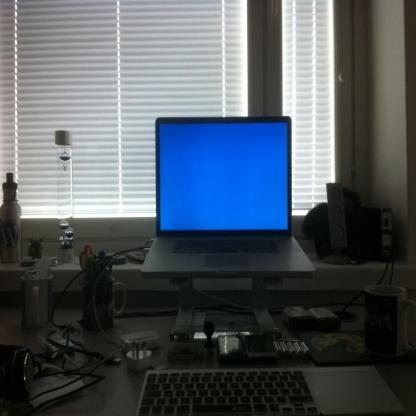board: (138, 114, 312, 289)
